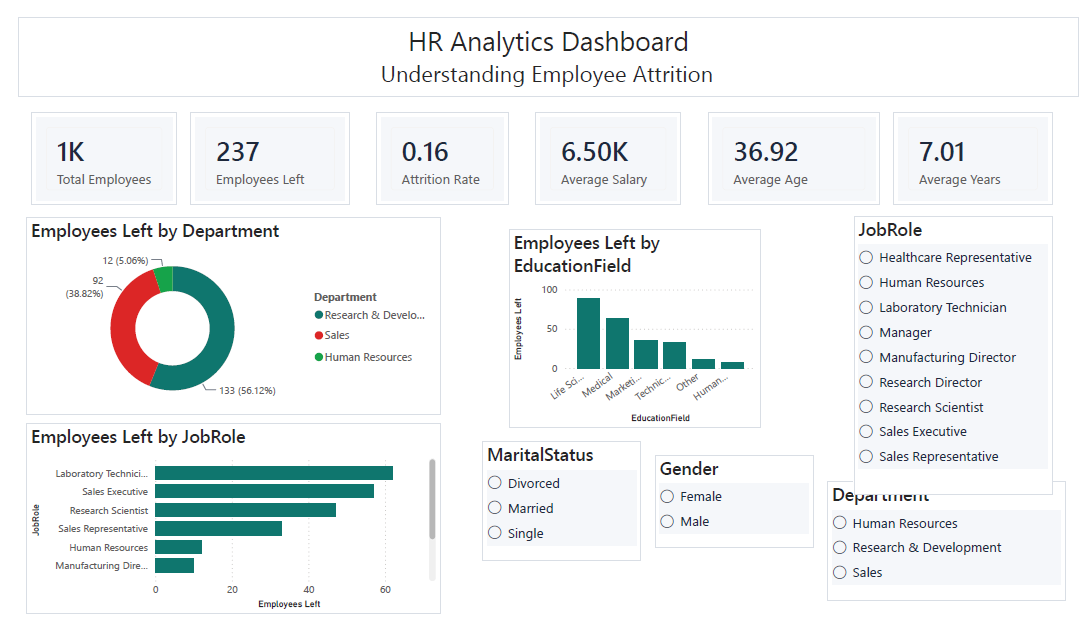

The dashboard page shown, as its layout file describes it:
{"tool":"powerbi","page":{"name":"Executive Overview","canvas":[1280,720],"ordinal":0},"visuals":[{"type":"cardVisual","fields":{"Data":["WA_Fn-UseC_-HR-Employee-Attrition.Total Employees"]},"box":[15.7,115.1,176,112],"z":0},{"type":"cardVisual","fields":{"Data":["WA_Fn-UseC_-HR-Employee-Attrition.Employees Left"]},"box":[207.7,115.1,192,112],"z":1000},{"type":"cardVisual","fields":{"Data":["WA_Fn-UseC_-HR-Employee-Attrition.Attrition Rate"]},"box":[431.7,115.1,160,112],"z":2000},{"type":"cardVisual","fields":{"Data":["WA_Fn-UseC_-HR-Employee-Attrition.Average Salary"]},"box":[623.7,115.1,176,112],"z":3000},{"type":"cardVisual","fields":{"Data":["WA_Fn-UseC_-HR-Employee-Attrition.Average Age"]},"box":[831.7,115.1,208,112],"z":4000},{"type":"cardVisual","fields":{"Data":["WA_Fn-UseC_-HR-Employee-Attrition.Average Years"]},"box":[1055.7,115.1,192,112],"z":5000},{"type":"donutChart","fields":{"Category":["WA_Fn-UseC_-HR-Employee-Attrition.Department"],"Y":["WA_Fn-UseC_-HR-Employee-Attrition.Employees Left"]},"box":[10,242,500,238],"z":6000},{"type":"barChart","fields":{"Y":["WA_Fn-UseC_-HR-Employee-Attrition.Employees Left"],"Category":["WA_Fn-UseC_-HR-Employee-Attrition.JobRole"]},"box":[10,490,500,230],"z":7000},{"type":"columnChart","fields":{"Y":["WA_Fn-UseC_-HR-Employee-Attrition.Employees Left"],"Category":["WA_Fn-UseC_-HR-Employee-Attrition.EducationField"]},"box":[592,256,304,240],"z":8000},{"type":"listSlicer","fields":{"Values":["WA_Fn-UseC_-HR-Employee-Attrition.Department"]},"box":[976,560,288,144],"z":9000},{"type":"listSlicer","fields":{"Values":["WA_Fn-UseC_-HR-Employee-Attrition.Gender"]},"box":[768,528,192,112],"z":10000},{"type":"listSlicer","fields":{"Values":["WA_Fn-UseC_-HR-Employee-Attrition.JobRole"]},"box":[1008,240,240,336],"z":11000},{"type":"listSlicer","fields":{"Values":["WA_Fn-UseC_-HR-Employee-Attrition.MaritalStatus"]},"box":[560,512,192,144],"z":12000},{"type":"textbox","box":[0,0,1280,96],"z":12001}]}

Visuals, with their boxes in screenshot pixels (x1, y1, x2, y2), scaled from the page's 1280x720 canvas onto the 1092x630 screenshot:
cardVisual - WA_Fn-UseC_-HR-Employee-Attrition.Total Employees: [13, 101, 164, 199]
cardVisual - WA_Fn-UseC_-HR-Employee-Attrition.Employees Left: [177, 101, 341, 199]
cardVisual - WA_Fn-UseC_-HR-Employee-Attrition.Attrition Rate: [368, 101, 505, 199]
cardVisual - WA_Fn-UseC_-HR-Employee-Attrition.Average Salary: [532, 101, 682, 199]
cardVisual - WA_Fn-UseC_-HR-Employee-Attrition.Average Age: [710, 101, 887, 199]
cardVisual - WA_Fn-UseC_-HR-Employee-Attrition.Average Years: [901, 101, 1064, 199]
donutChart - WA_Fn-UseC_-HR-Employee-Attrition.Department x WA_Fn-UseC_-HR-Employee-Attrition.Employees Left: [9, 212, 435, 420]
barChart - WA_Fn-UseC_-HR-Employee-Attrition.Employees Left x WA_Fn-UseC_-HR-Employee-Attrition.JobRole: [9, 429, 435, 629]
columnChart - WA_Fn-UseC_-HR-Employee-Attrition.Employees Left x WA_Fn-UseC_-HR-Employee-Attrition.EducationField: [505, 224, 764, 434]
listSlicer - WA_Fn-UseC_-HR-Employee-Attrition.Department: [833, 490, 1078, 616]
listSlicer - WA_Fn-UseC_-HR-Employee-Attrition.Gender: [655, 462, 819, 560]
listSlicer - WA_Fn-UseC_-HR-Employee-Attrition.JobRole: [860, 210, 1065, 504]
listSlicer - WA_Fn-UseC_-HR-Employee-Attrition.MaritalStatus: [478, 448, 642, 574]
textbox: [0, 0, 1091, 84]
